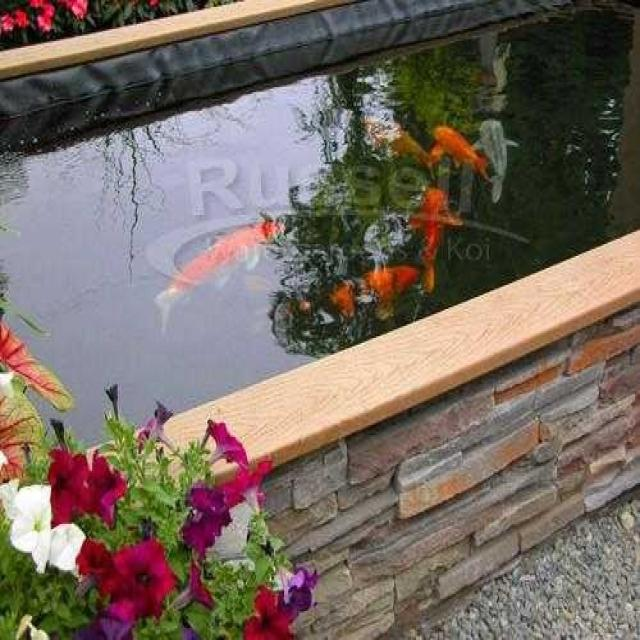Ponds: (1, 1, 640, 517)
